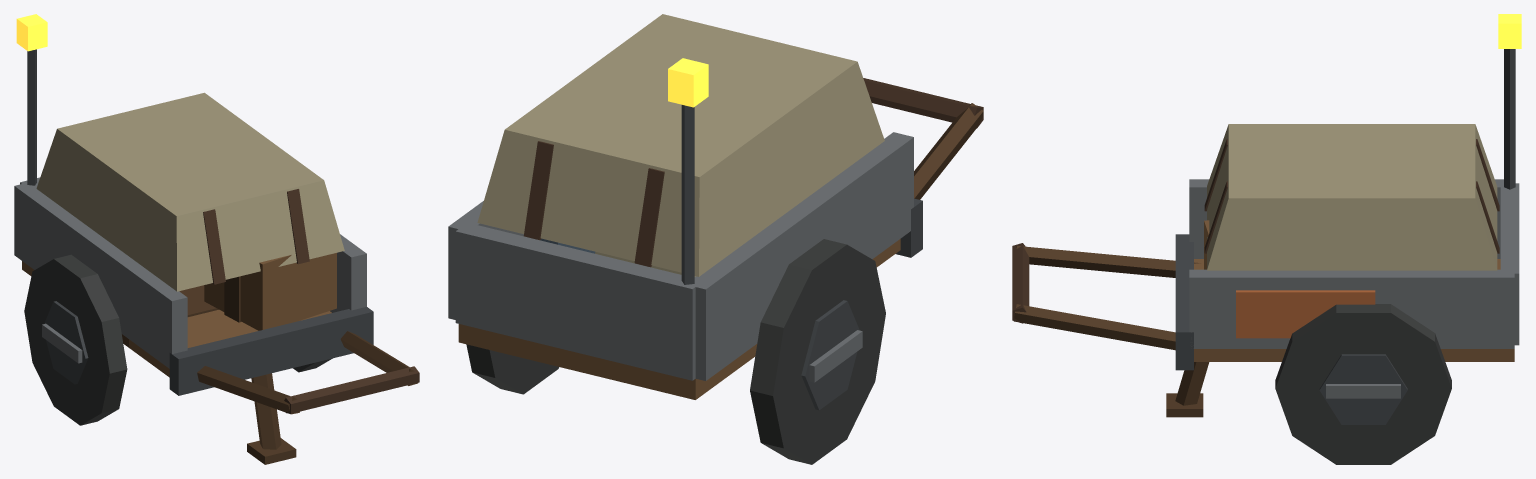
File: vehicle_handcart_l3.glb
3 views of the same model, side by side, from view 1: azimuth 30°, elevation 25°; view 2: azimuth 150°, elevation 25°; view 3: azimuth 270°, elevation 25° (orthographic). The views are drawn at different scales.
Parts seen in each view (by area): view 1: body, wheel_r; view 2: body, wheel_r, wheel_l; view 3: body, wheel_l.
Part boxes in pixels (x1,y1,x2,y2): body: (14, 14, 419, 464); wheel_r: (24, 254, 127, 425); body: (448, 14, 983, 399); wheel_r: (750, 239, 885, 464); wheel_l: (466, 344, 559, 394); body: (1012, 14, 1521, 417); wheel_l: (1275, 304, 1451, 464).
Size of the model in its own units: 1.28 by 1.67 by 2.19.
